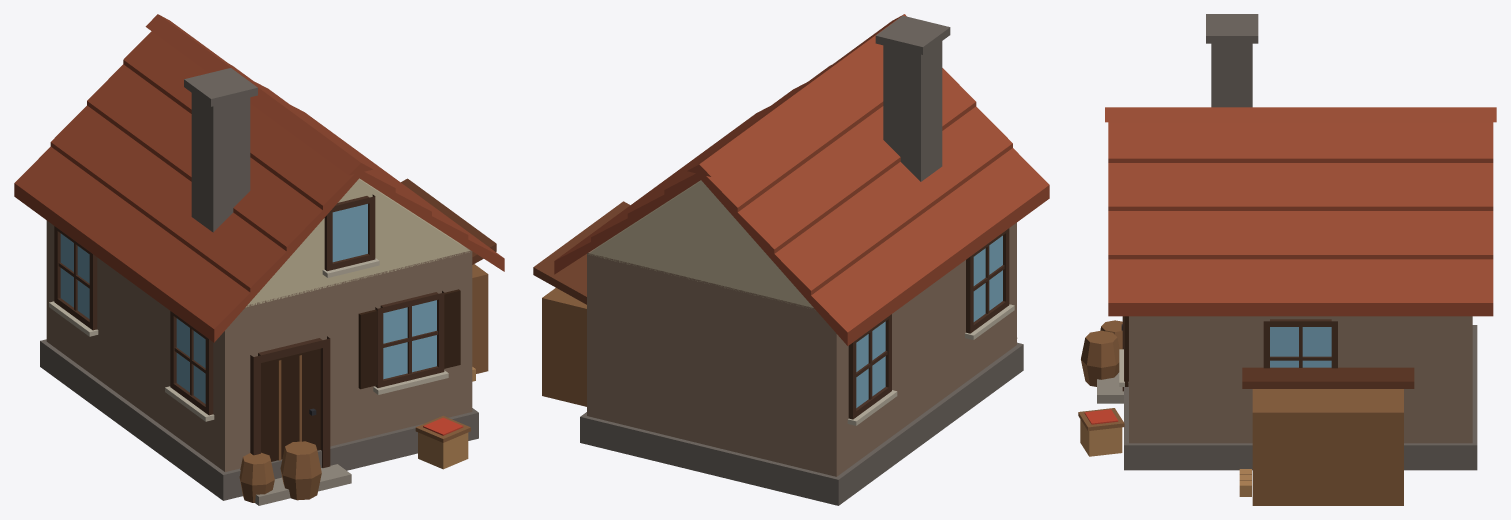
File: house_02_stone_cottage.fbx
3 views of the same model, side by side, from view 1: azimuth 30°, elevation 25°; view 2: azimuth 150°, elevation 25°; view 3: azimuth 270°, elevation 25° (orthographic). The views are drawn at different scales.
Visible parts, largest first — view 1: house_02_stone_cottage; view 2: house_02_stone_cottage; view 3: house_02_stone_cottage.
Boxes of the visible parts, left/top/right/bottom form: house_02_stone_cottage: left=14, top=14, right=504, bottom=505; house_02_stone_cottage: left=533, top=14, right=1049, bottom=505; house_02_stone_cottage: left=1078, top=14, right=1496, bottom=505.
Size of the model in its own units: 5.7 by 5.62 by 6.09.
